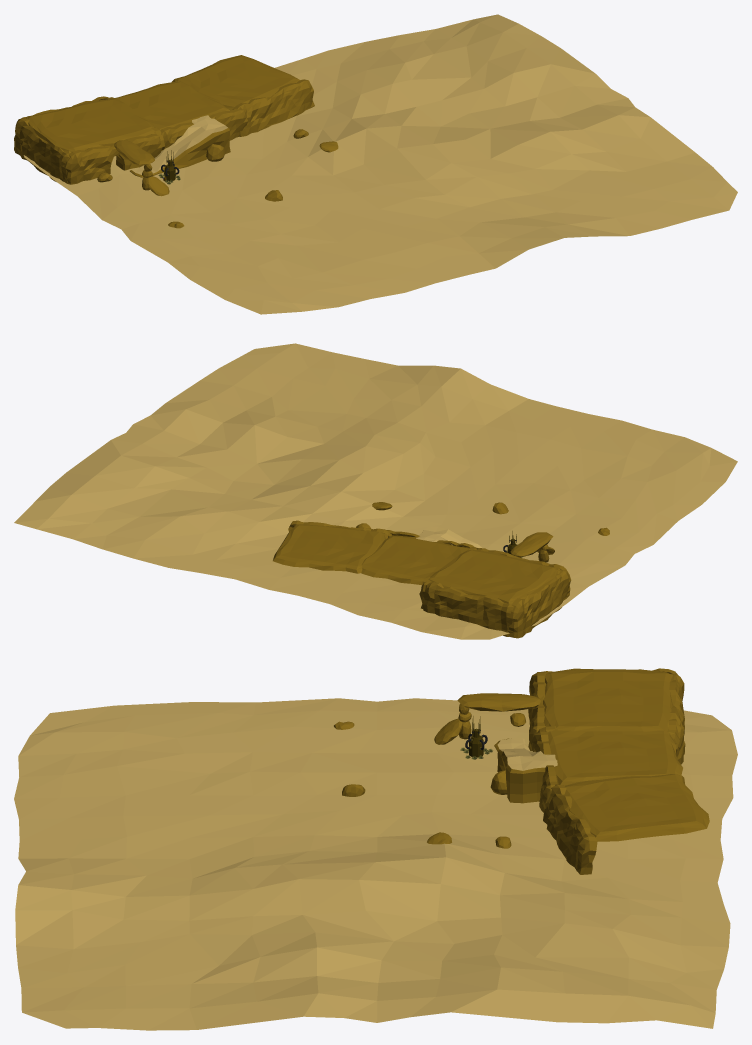
The model's file is MenuInicial.FBX.
3 views of the same model, one above another, from view 1: azimuth 30°, elevation 25°; view 2: azimuth 150°, elevation 25°; view 3: azimuth 270°, elevation 25° (orthographic). The views are drawn at different scales.
Visible parts, largest first — view 1: Chao, TetoCaverna, TetoCaverna002, TetoCaverna001, Rampa1, ParedeCavernaMetade001, PortaCaverna, ParedeCavernaMetade002, ParedeCavernaMetade, RochaPonte; view 2: Chao, TetoCaverna, TetoCaverna002, TetoCaverna001, ParedeCavernaMetade004, ParedeCavernaMetade002, RochaPonte, Rampa1; view 3: Chao, TetoCaverna, TetoCaverna002, TetoCaverna001, ParedeCavernaMetade001, Rampa1, RochaPonte, ParedeCavernaMetade004, PortaCaverna, ParedeCavernaMetade.
Boxes of the visible parts, x1,y1,x2,y2 form: Chao: [23, 14, 737, 314]; TetoCaverna: [26, 98, 154, 152]; TetoCaverna002: [172, 55, 299, 110]; TetoCaverna001: [114, 81, 229, 134]; Rampa1: [130, 115, 230, 177]; ParedeCavernaMetade001: [232, 79, 314, 136]; PortaCaverna: [64, 133, 162, 184]; ParedeCavernaMetade002: [14, 118, 70, 183]; ParedeCavernaMetade: [160, 108, 247, 149]; RochaPonte: [114, 140, 154, 164]; Chao: [14, 343, 737, 639]; TetoCaverna: [428, 550, 560, 603]; TetoCaverna002: [273, 524, 388, 573]; TetoCaverna001: [361, 535, 469, 585]; ParedeCavernaMetade004: [422, 582, 513, 636]; ParedeCavernaMetade002: [508, 570, 570, 638]; RochaPonte: [510, 532, 553, 556]; Rampa1: [416, 526, 482, 548]; Chao: [14, 698, 737, 1030]; TetoCaverna: [543, 668, 674, 732]; TetoCaverna002: [564, 774, 709, 841]; TetoCaverna001: [547, 727, 682, 785]; ParedeCavernaMetade001: [543, 784, 597, 874]; Rampa1: [494, 738, 557, 803]; RochaPonte: [457, 693, 541, 711]; ParedeCavernaMetade004: [668, 673, 685, 764]; PortaCaverna: [528, 672, 546, 750]; ParedeCavernaMetade: [532, 731, 557, 812].
Size of the model in its own units: 6238 by 493 by 5701.
